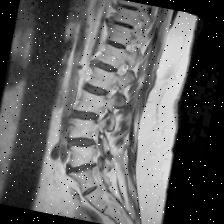disc: (109, 16, 138, 32), (104, 37, 132, 53), (117, 0, 144, 15)
hdisc: (62, 156, 100, 178), (88, 54, 120, 78), (80, 79, 113, 102), (64, 132, 100, 152), (67, 106, 100, 124)
